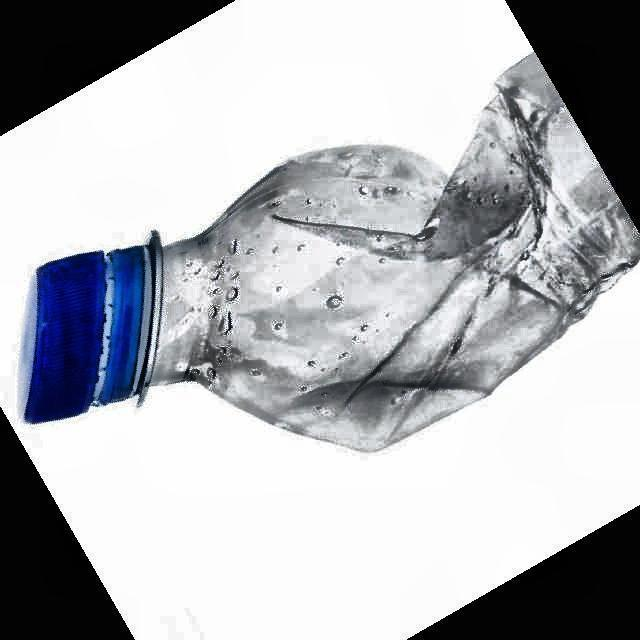plastic: (19, 56, 640, 449)
